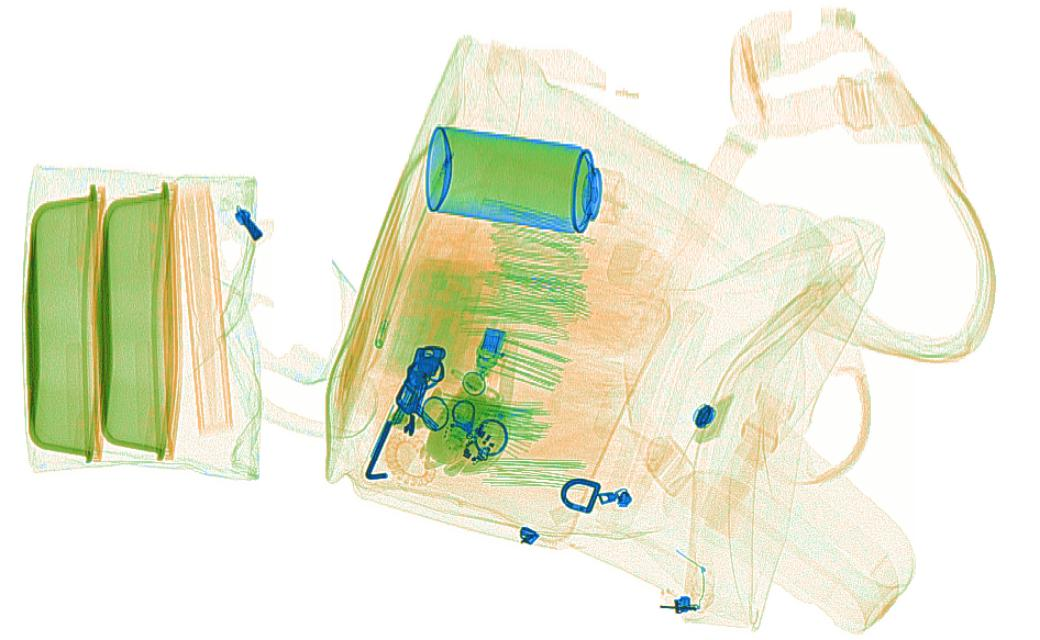USBFlashDisk: (474, 327, 508, 371)
pressure: (424, 125, 626, 236)
